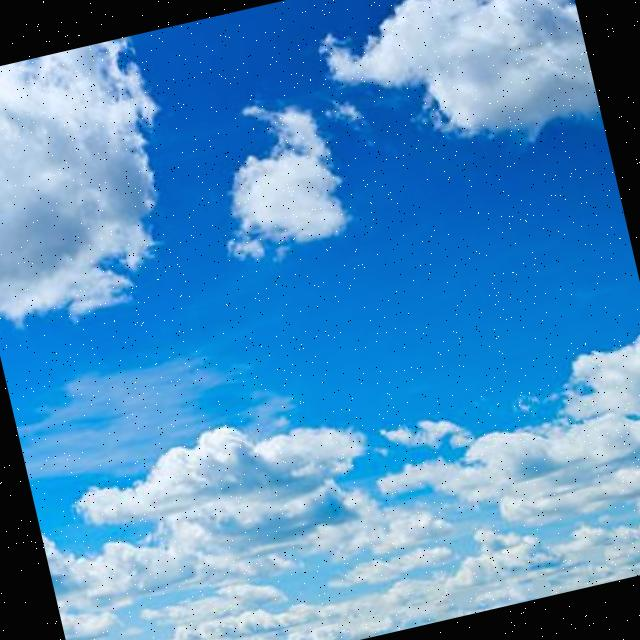Cc: (1, 1, 632, 389)
